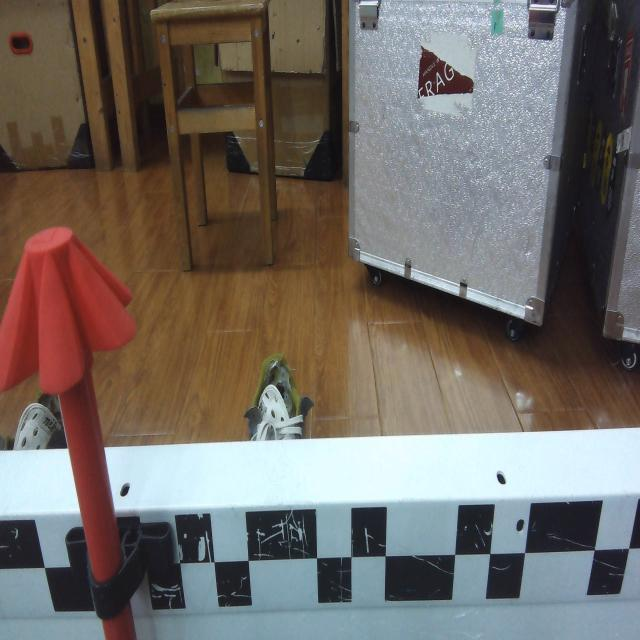zred-Stake-Head: (0, 226, 136, 394)
